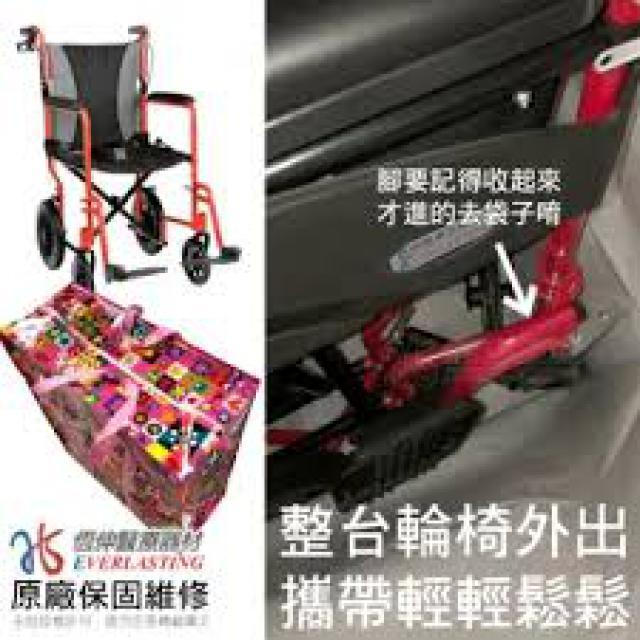wheelchair: (9, 17, 248, 290)
